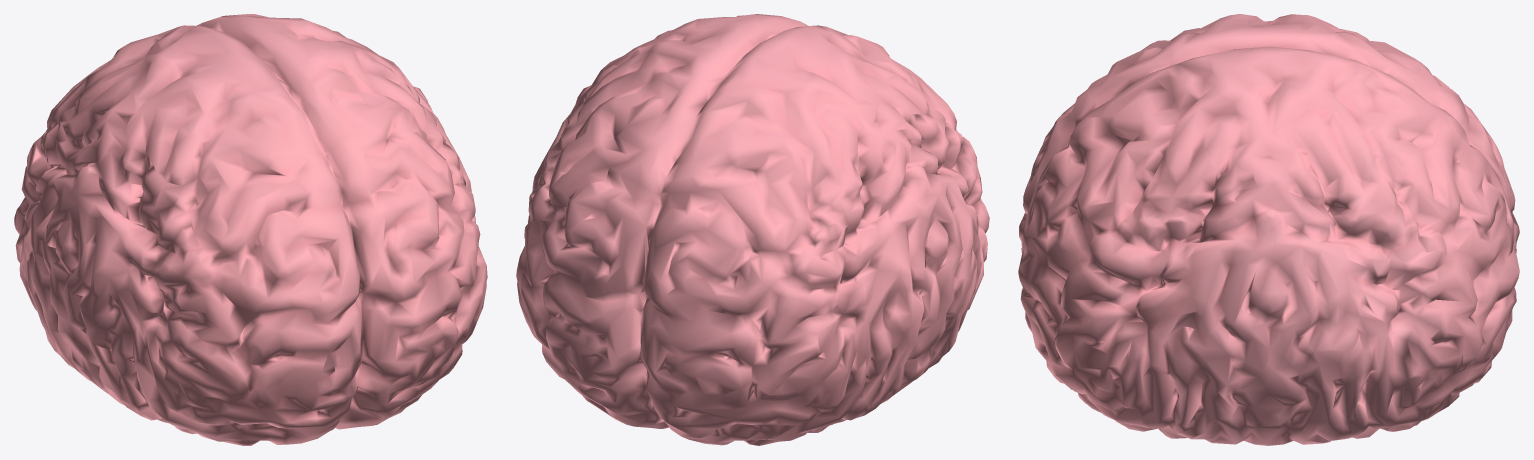
3 views of the same model, side by side, from view 1: azimuth 30°, elevation 25°; view 2: azimuth 150°, elevation 25°; view 3: azimuth 270°, elevation 25° (orthographic). The views are drawn at different scales.
Visible parts, largest first — view 1: Meshy_AI__0803093942_image-to-3d-texture; view 2: Meshy_AI__0803093942_image-to-3d-texture; view 3: Meshy_AI__0803093942_image-to-3d-texture.
Boxes of the visible parts, bbox=[...] form: Meshy_AI__0803093942_image-to-3d-texture: bbox=[14, 14, 487, 445]; Meshy_AI__0803093942_image-to-3d-texture: bbox=[516, 14, 989, 445]; Meshy_AI__0803093942_image-to-3d-texture: bbox=[1018, 14, 1519, 445].
Size of the model in its own units: 1.73 by 1.46 by 1.9.
Materials: 1 (1 with a texture image).
